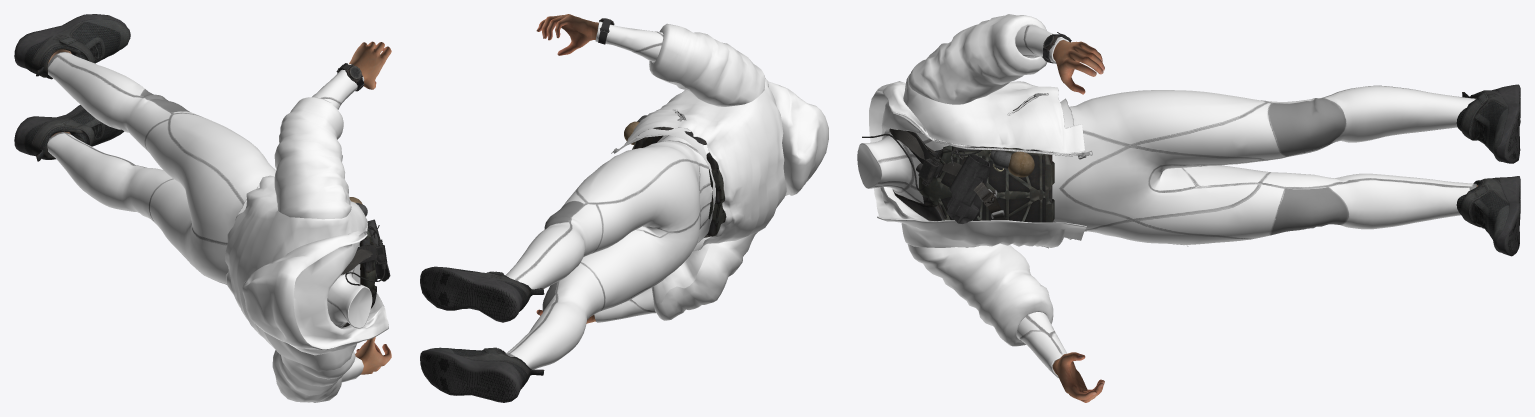
File: body_mp_kleo_iw9_3_1_LOD0.obj
The picture shows the model from 3 angles, left to right: view 1: azimuth 30°, elevation 25°; view 2: azimuth 150°, elevation 25°; view 3: azimuth 270°, elevation 25°; orthographic projection. The views are drawn at different scales.
Parts seen in each view (by area): view 1: xmaterial_77222472d63f8064, xmaterial_69b289ca74fc793b, xmaterial_2361df96c859e5c9, xmaterial_6f46266527d342bf, xmaterial_57b9f1548d6ecb5a, xmaterial_677647f5b5e5c6ba, xmaterial_674ffa73bec233c2; view 2: xmaterial_77222472d63f8064, xmaterial_69b289ca74fc793b, xmaterial_2361df96c859e5c9, xmaterial_6f46266527d342bf, xmaterial_57b9f1548d6ecb5a, xmaterial_677647f5b5e5c6ba; view 3: xmaterial_69b289ca74fc793b, xmaterial_77222472d63f8064, xmaterial_6f46266527d342bf, xmaterial_2361df96c859e5c9, xmaterial_677647f5b5e5c6ba, xmaterial_57b9f1548d6ecb5a, xmaterial_674ffa73bec233c2, xmaterial_f23de9d0003e0ba, xmaterial_5b8378fe7201ffd4.
Boxes of the visible parts, bbox=[...] form: xmaterial_77222472d63f8064: bbox=[225, 97, 388, 402]; xmaterial_69b289ca74fc793b: bbox=[47, 52, 275, 284]; xmaterial_2361df96c859e5c9: bbox=[14, 14, 130, 161]; xmaterial_6f46266527d342bf: bbox=[312, 64, 372, 382]; xmaterial_57b9f1548d6ecb5a: bbox=[349, 41, 391, 374]; xmaterial_677647f5b5e5c6ba: bbox=[342, 225, 379, 327]; xmaterial_674ffa73bec233c2: bbox=[367, 219, 390, 281]; xmaterial_77222472d63f8064: bbox=[617, 23, 828, 320]; xmaterial_69b289ca74fc793b: bbox=[505, 140, 700, 369]; xmaterial_2361df96c859e5c9: bbox=[420, 266, 544, 402]; xmaterial_6f46266527d342bf: bbox=[594, 21, 712, 322]; xmaterial_57b9f1548d6ecb5a: bbox=[536, 14, 598, 323]; xmaterial_677647f5b5e5c6ba: bbox=[632, 111, 726, 236]; xmaterial_69b289ca74fc793b: bbox=[1069, 85, 1476, 246]; xmaterial_77222472d63f8064: bbox=[869, 14, 1086, 346]; xmaterial_6f46266527d342bf: bbox=[857, 25, 1106, 378]; xmaterial_2361df96c859e5c9: bbox=[1456, 84, 1520, 256]; xmaterial_677647f5b5e5c6ba: bbox=[892, 101, 1054, 222]; xmaterial_57b9f1548d6ecb5a: bbox=[1052, 40, 1104, 402]; xmaterial_674ffa73bec233c2: bbox=[947, 153, 989, 223]; xmaterial_f23de9d0003e0ba: bbox=[889, 128, 1007, 220]; xmaterial_5b8378fe7201ffd4: bbox=[989, 150, 1034, 177].
Size of the model in its own units: 66.99 by 98.44 by 167.
18 materials, 18 textured.
